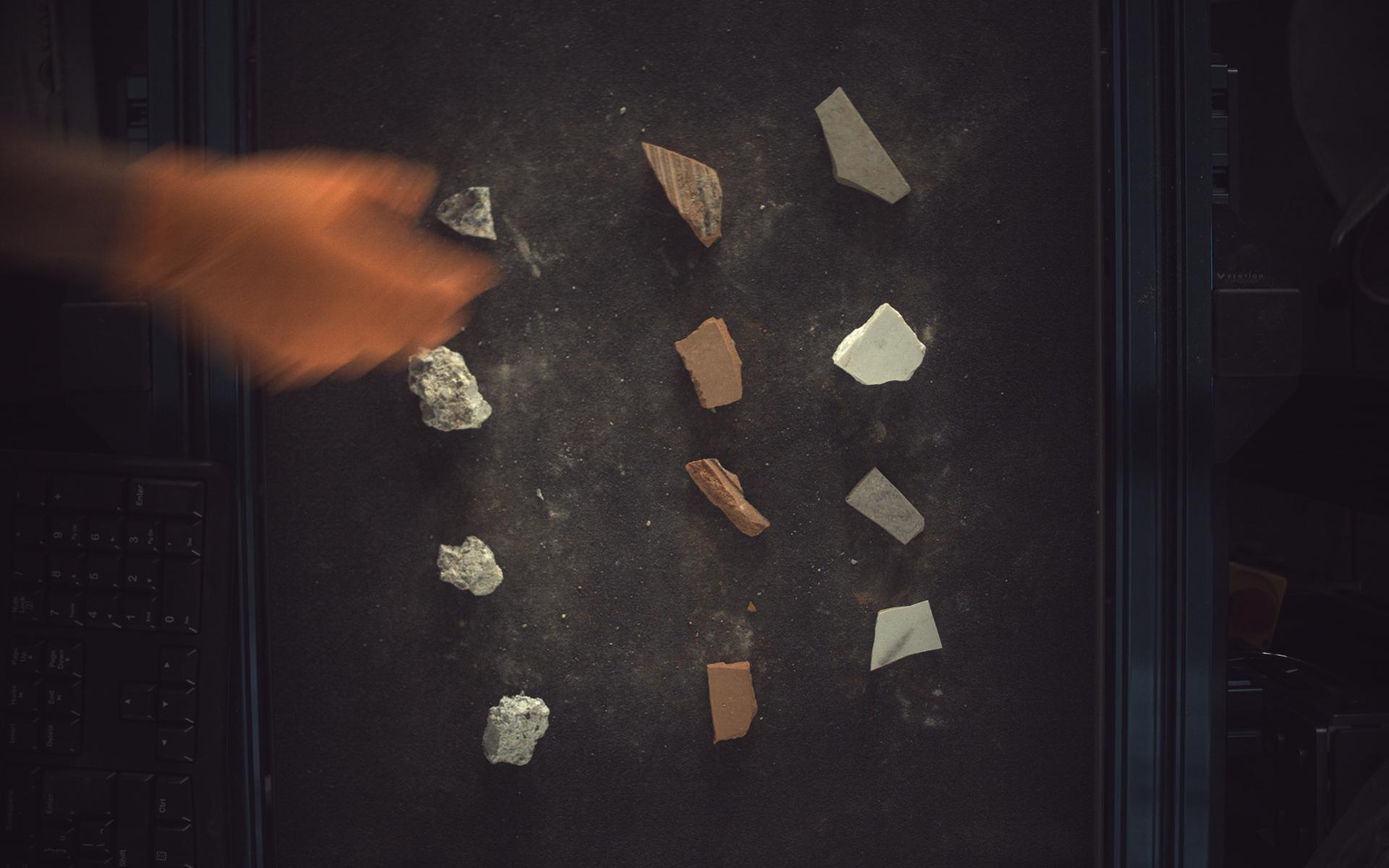brick: (644, 142, 723, 247), (687, 458, 772, 537), (676, 317, 744, 409), (708, 662, 758, 744)
concrete: (409, 346, 492, 431), (483, 694, 550, 767), (437, 537, 504, 596), (436, 186, 497, 239)
tile: (817, 86, 912, 203), (834, 302, 928, 385), (848, 467, 926, 545), (872, 602, 944, 671)
